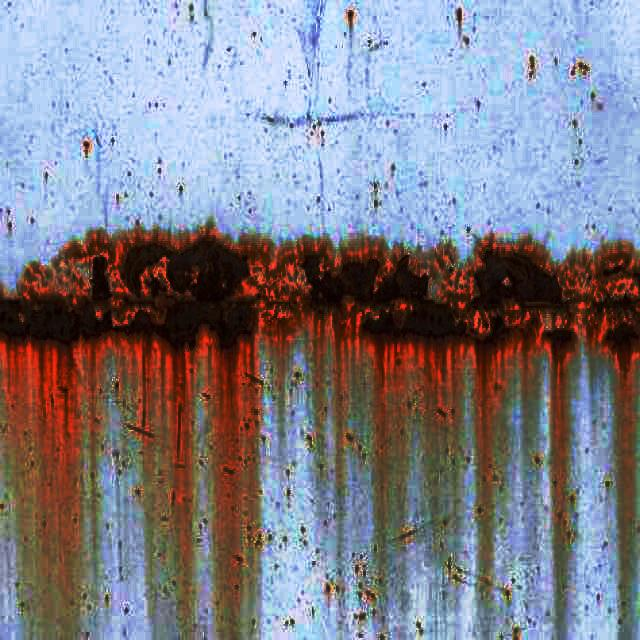Corrosion: (452, 248, 640, 348), (303, 255, 466, 338), (0, 300, 256, 348), (121, 238, 249, 302), (90, 256, 111, 300)
